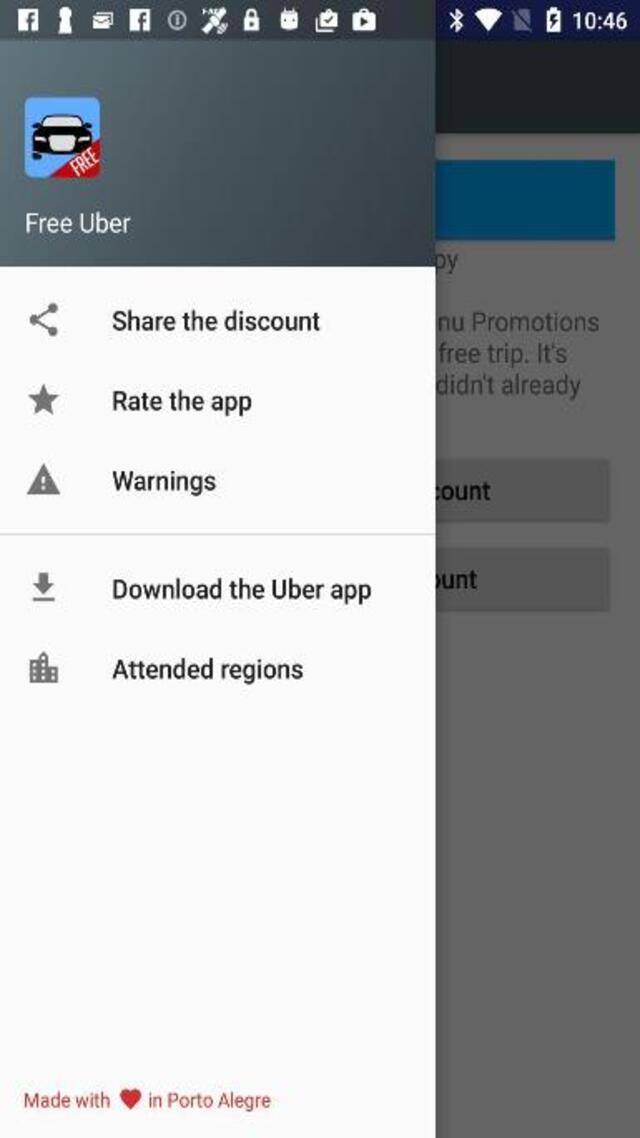Icon: (26, 462, 60, 494), (28, 382, 58, 414), (29, 303, 57, 337), (29, 651, 57, 683), (32, 573, 54, 601), (120, 1088, 142, 1110)
Image: (24, 97, 99, 177)
Text: (114, 576, 372, 604), (112, 656, 304, 684), (113, 308, 319, 332), (113, 388, 253, 416), (112, 470, 217, 494), (149, 1090, 270, 1110), (26, 212, 130, 233), (24, 1091, 109, 1107)
